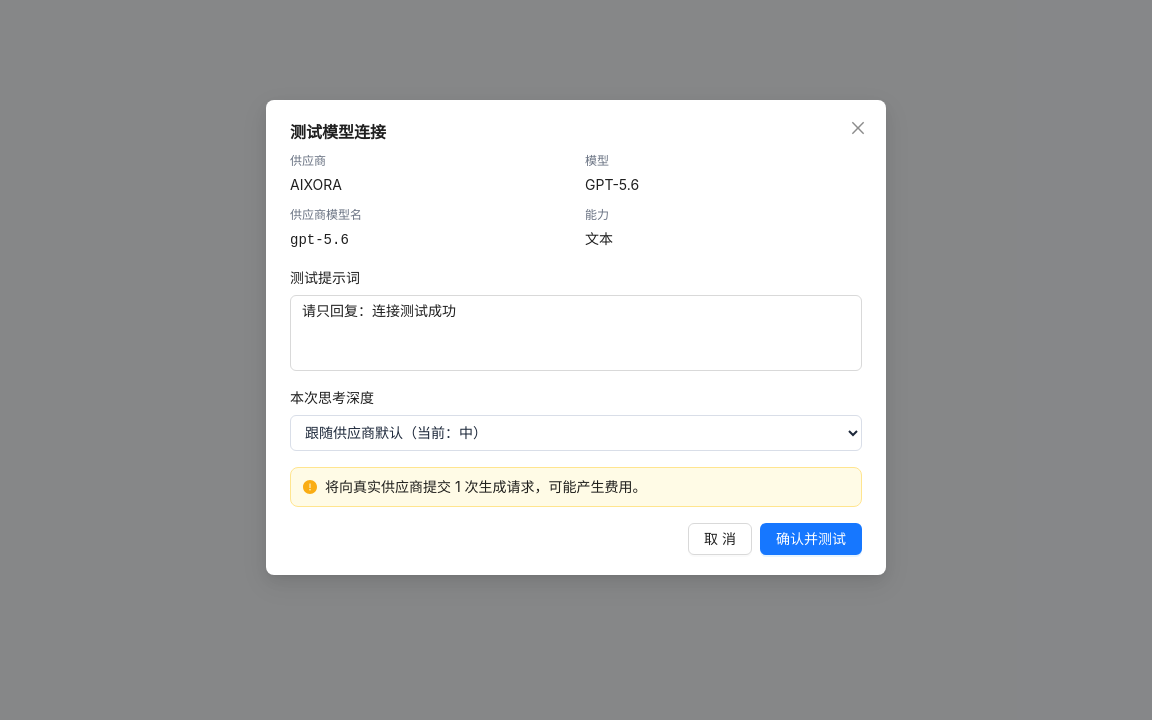
model test dialog › submits and displays a text reasoning override
This screenshot has width=1152, height=720.
Select "最大" in the dropdown labelled "本次思考深度" at (576, 433), box [290,415,862,451]
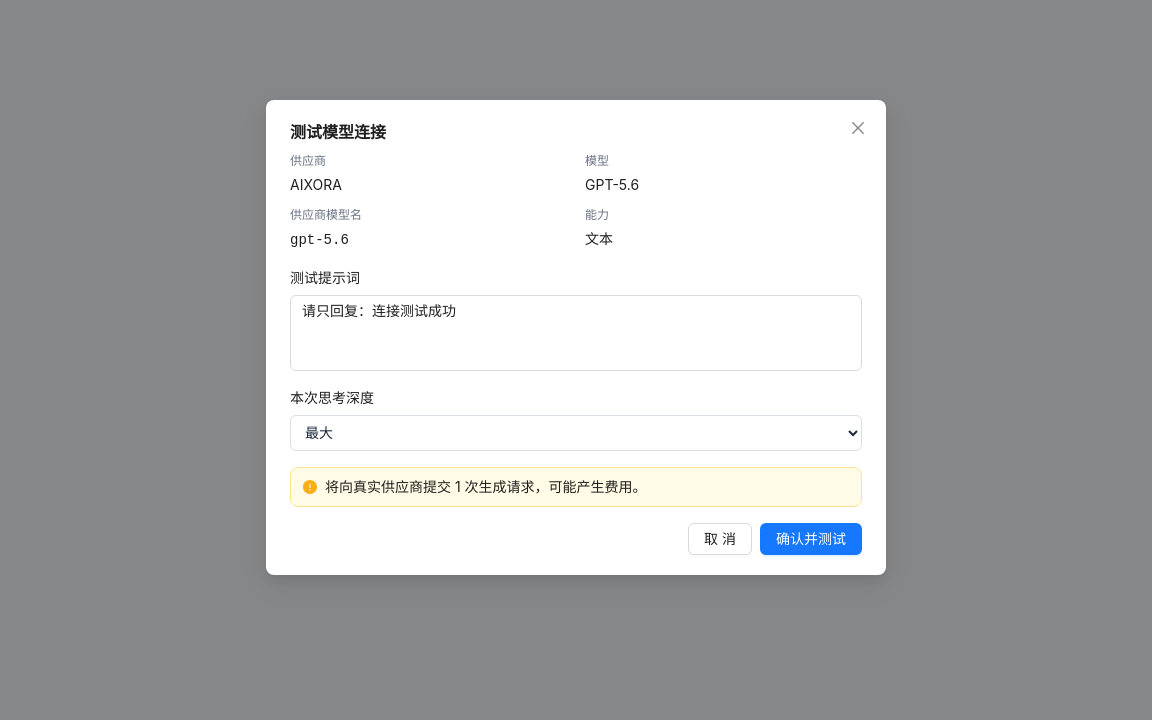
Click the button "确认并测试" at (811, 539), box [760,523,862,555]
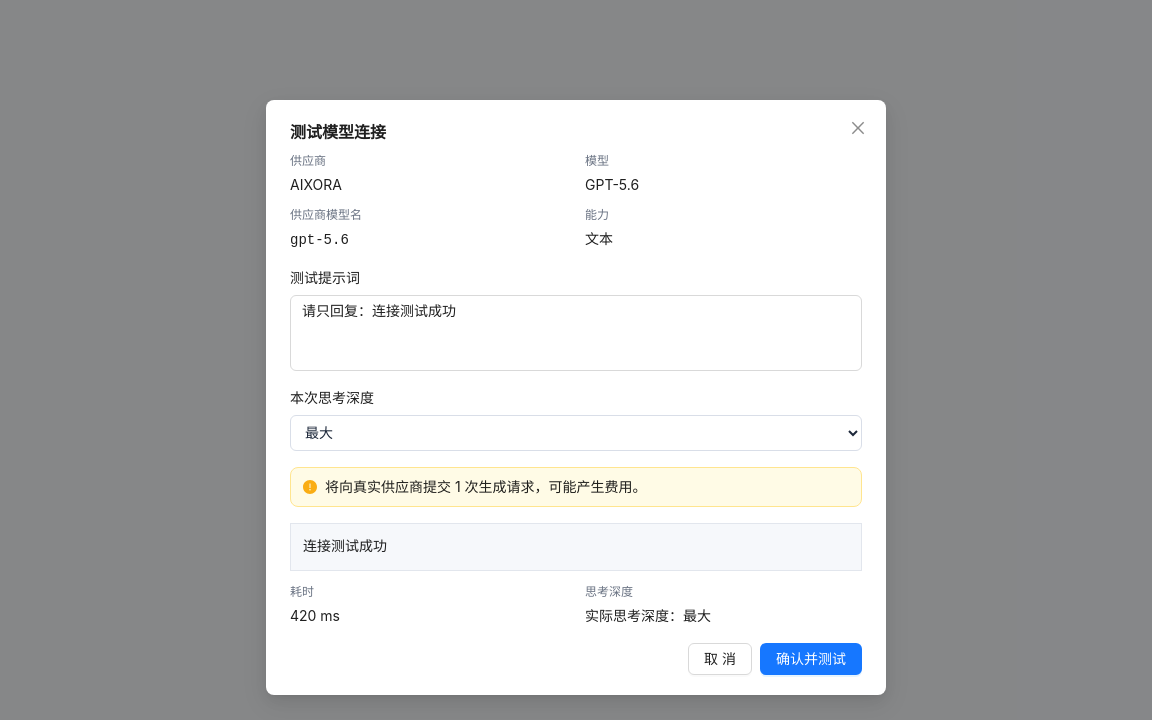
Expected: the text "实际思考深度：最大" is shown, [585,606,711,624]
